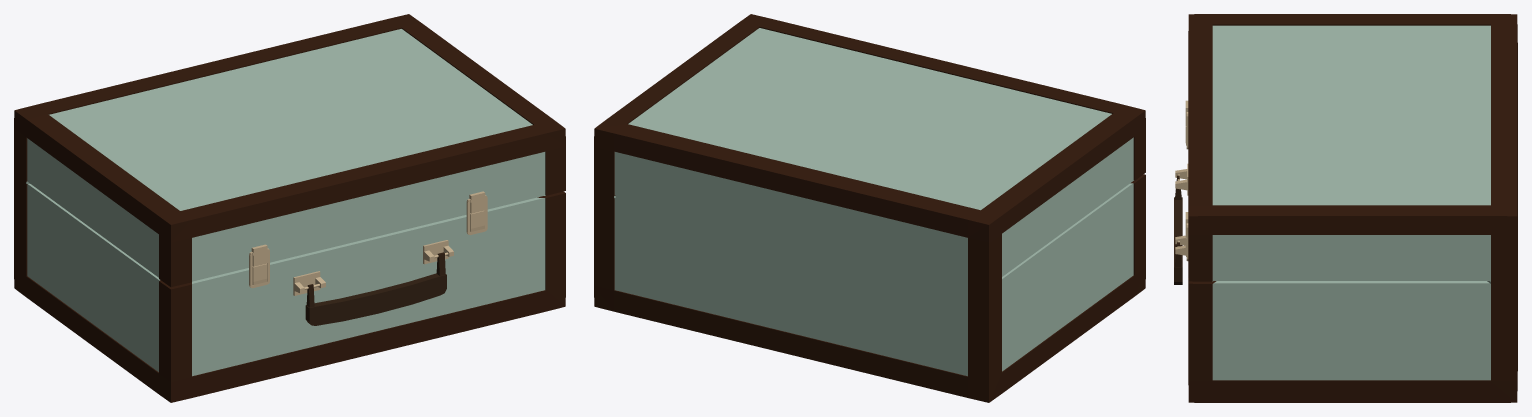
Rendered from luggage 1.fbx.
3 renders of one model, left to right at view 1: azimuth 30°, elevation 25°; view 2: azimuth 150°, elevation 25°; view 3: azimuth 270°, elevation 25°, orthographic. The views are drawn at different scales.
Visible parts, largest first — view 1: luggage2; view 2: luggage2; view 3: luggage2.
Boxes of the visible parts, box(x1,y1,x2,y2) form: luggage2: box(14, 14, 565, 402); luggage2: box(594, 14, 1145, 402); luggage2: box(1174, 14, 1517, 402).
Size of the model in its own units: 0.5858 by 0.2531 by 0.4203.
